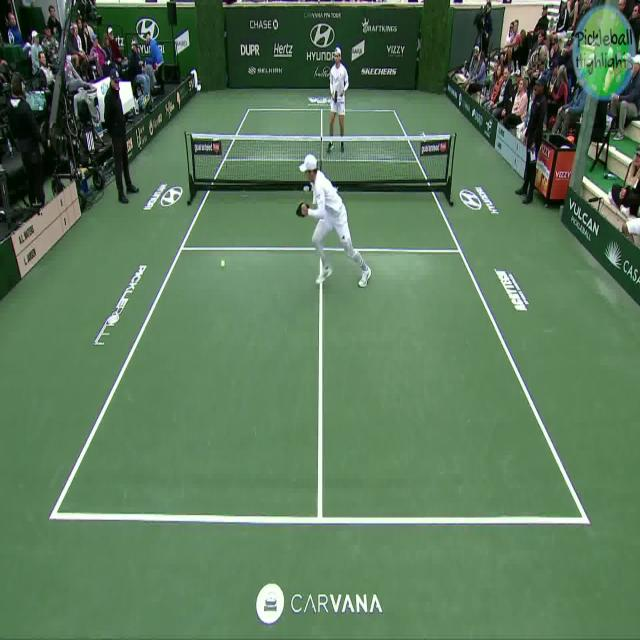ball: (218, 255, 227, 272)
